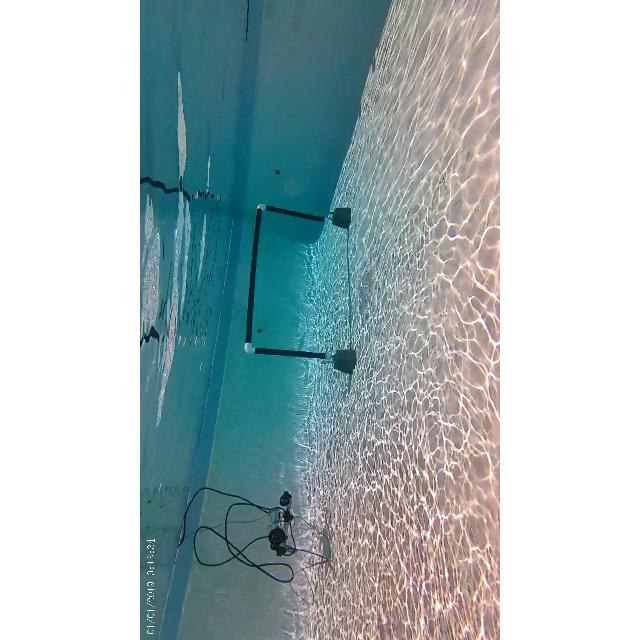prequal gate: (244, 202, 332, 362)
prequal gate leg l: (240, 341, 340, 372)
prequal gate leg r: (248, 195, 338, 228)
